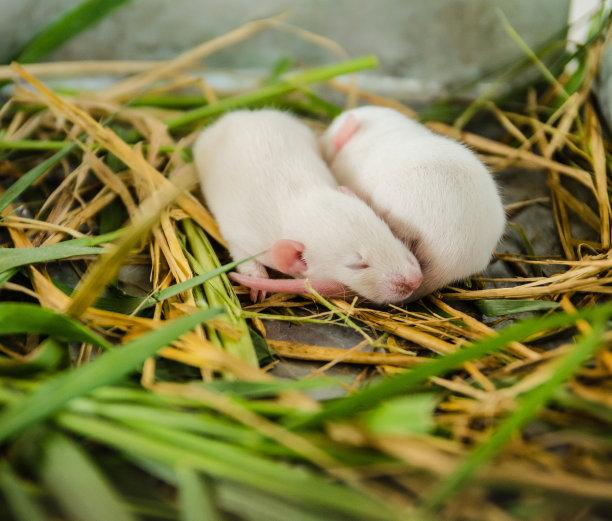rat: (171, 90, 425, 309)
